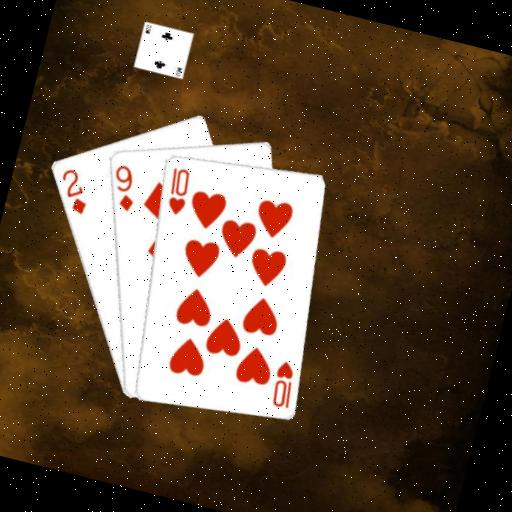10H: (159, 163, 195, 218), (265, 356, 301, 411)
2D: (50, 163, 96, 217)
9D: (104, 160, 144, 215)
